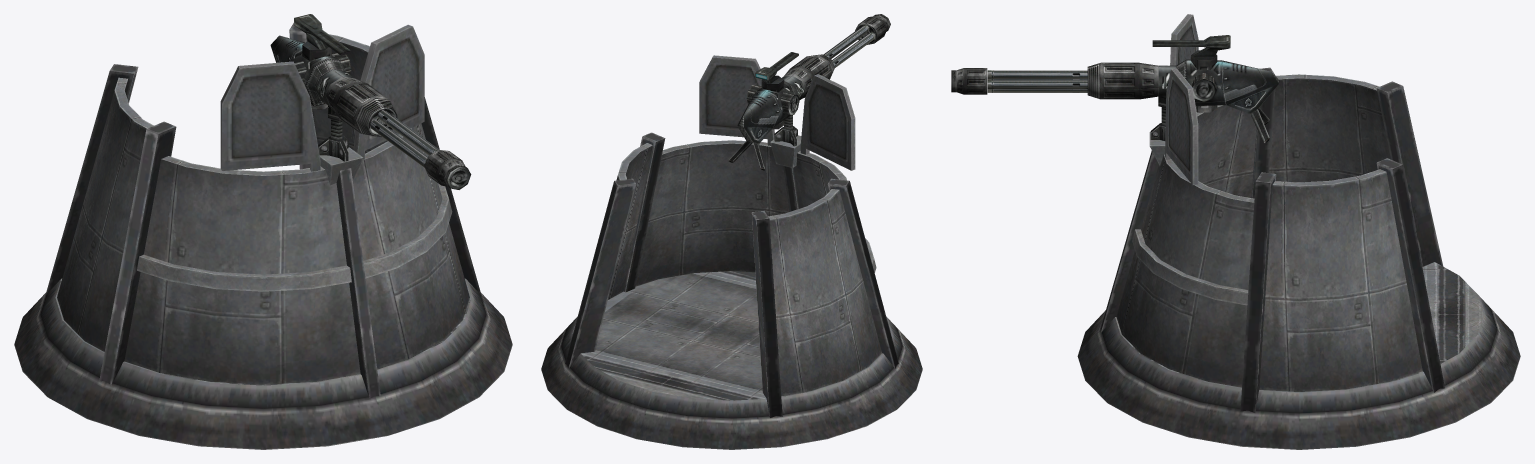
The model's file is gunturret.obj.
The picture shows the model from 3 angles, left to right: view 1: azimuth 30°, elevation 25°; view 2: azimuth 150°, elevation 25°; view 3: azimuth 270°, elevation 25°; orthographic projection. The views are drawn at different scales.
Parts seen in each view (by area): view 1: main_cylinder, com_bldg_gunturret, guard, trim, body_trimR1, turret_main, body_trimR, body_trimR2, body_trimR4, gunnozzle, scope, turret_base (+4 smaller); view 2: main_cylinder, com_bldg_gunturret, floor, guard, body_trimR3, body_trimR2, turret_main, body_trimR1, body_trimR4, gun_mount, gunnozzle, scope (+5 smaller); view 3: main_cylinder, com_bldg_gunturret, turret_main, body_trimR3, floor, body_trimR4, body_trimR2, guard, trim, body_trimR, body_trimR1, tube1 (+4 smaller).
Boxes of the visible parts, box(x1,y1,x2,y2) form: main_cylinder: box(57, 34, 469, 384); com_bldg_gunturret: box(14, 279, 512, 449); guard: box(220, 24, 424, 171); trim: box(137, 183, 452, 291); body_trimR1: box(99, 121, 176, 385); turret_main: box(270, 35, 397, 137); body_trimR: box(336, 168, 380, 398); body_trimR2: box(45, 64, 138, 294); body_trimR4: box(421, 97, 481, 294); gunnozzle: box(424, 149, 471, 189); scope: box(294, 14, 350, 55); turret_base: box(318, 105, 348, 161); main_cylinder: box(608, 140, 881, 396); com_bldg_gunturret: box(541, 317, 922, 449); floor: box(572, 271, 891, 400); guard: box(699, 55, 855, 170); body_trimR3: box(565, 178, 636, 368); body_trimR2: box(751, 210, 782, 417); turret_main: box(728, 54, 834, 170); body_trimR1: box(827, 178, 898, 368); body_trimR4: box(623, 132, 665, 292); gun_mount: box(770, 135, 801, 167); gunnozzle: box(855, 14, 890, 44); scope: box(755, 52, 798, 83); main_cylinder: box(1116, 74, 1422, 391); com_bldg_gunturret: box(1077, 295, 1520, 449); turret_main: box(1087, 59, 1279, 143); body_trimR3: box(1376, 158, 1444, 392); floor: box(1115, 262, 1483, 392); body_trimR4: box(1240, 172, 1276, 412); body_trimR2: box(1376, 81, 1443, 266); guard: box(1165, 14, 1198, 184); trim: box(1132, 229, 1248, 305); body_trimR: box(1100, 150, 1158, 332); body_trimR1: box(1251, 67, 1275, 198); tube1: box(987, 70, 1087, 79).
Size of the model in its own units: 2.41 by 1.91 by 3.1.
